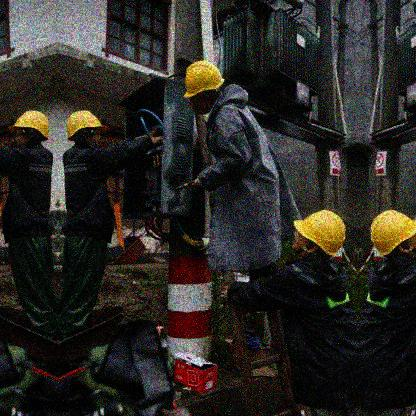helmet: (291, 211, 343, 262), (369, 211, 416, 261), (183, 62, 229, 113), (66, 110, 110, 150), (5, 111, 52, 146)
